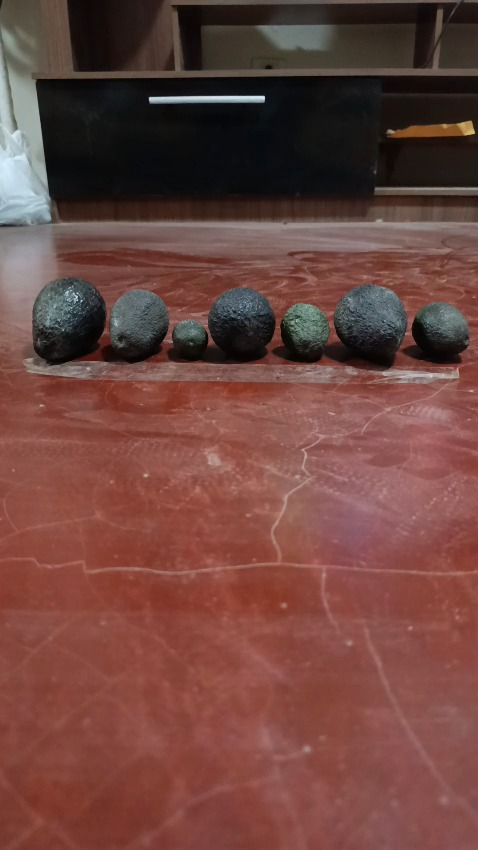Primera: (30, 276, 108, 362), (333, 283, 408, 361), (206, 286, 275, 357), (107, 287, 172, 360)
Segunda: (410, 300, 469, 359), (279, 302, 330, 360)
Tercera: (171, 319, 208, 359)
